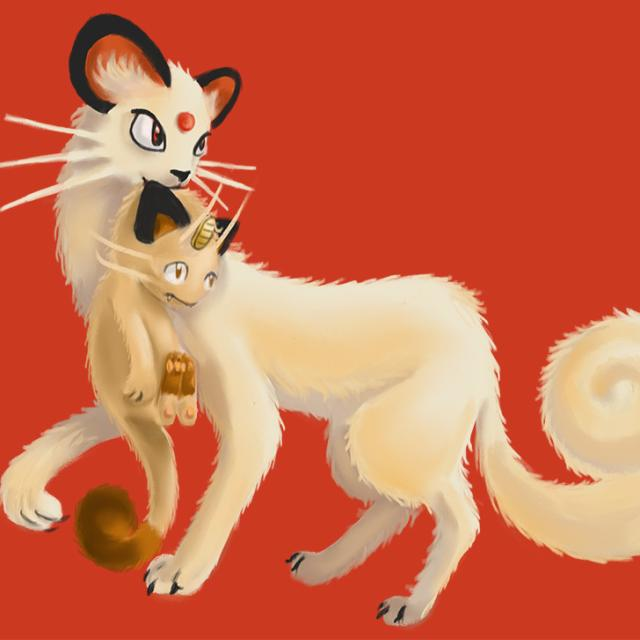Meowth: (104, 181, 238, 459)
Persian: (65, 23, 518, 605)
